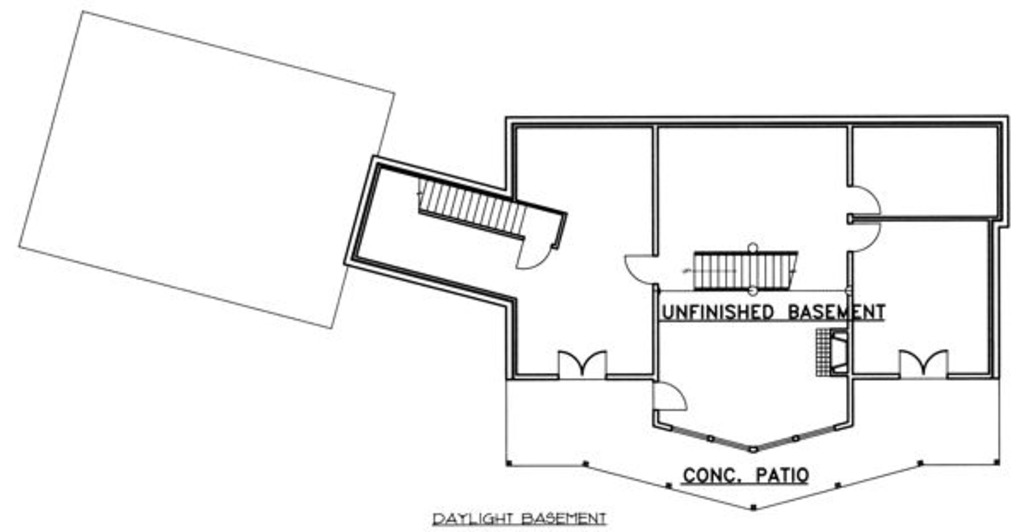door: (510, 229, 554, 275), (556, 341, 605, 382), (621, 255, 669, 288), (899, 351, 950, 382), (653, 374, 692, 414), (849, 221, 881, 255), (848, 182, 881, 214)
stairs: (406, 171, 523, 239), (680, 236, 801, 296)
